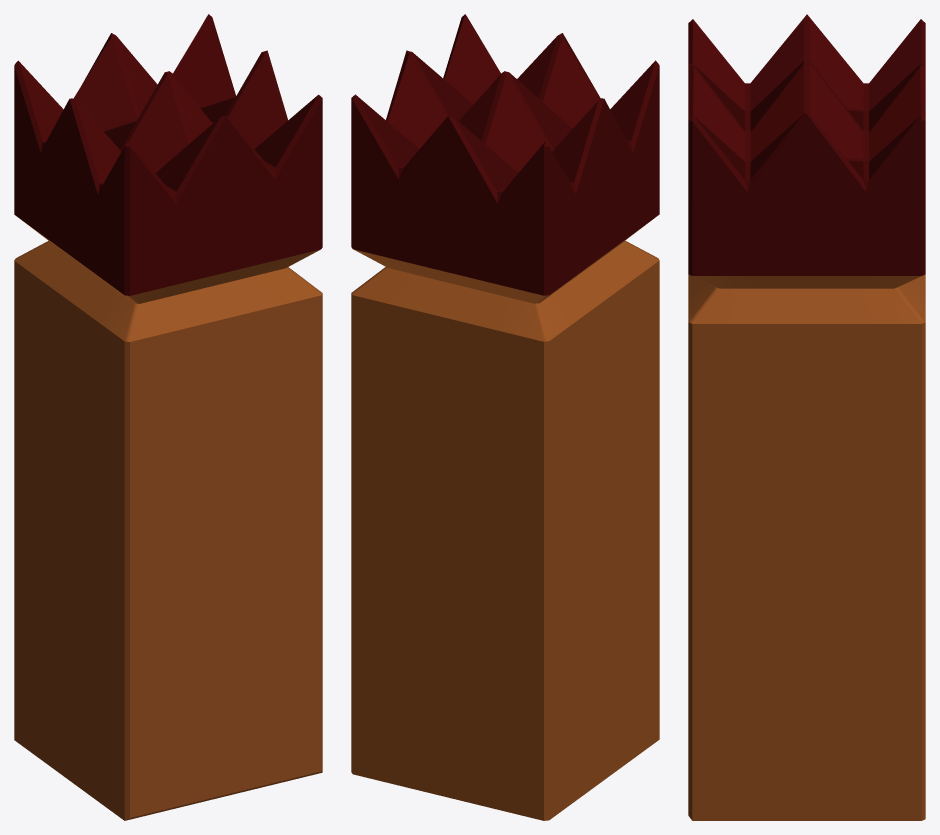
Rendered from kubbkung_v1.obj.
3 views of the same model, side by side, from view 1: azimuth 30°, elevation 25°; view 2: azimuth 150°, elevation 25°; view 3: azimuth 270°, elevation 25° (orthographic). The views are drawn at different scales.
Visible parts, largest first — view 1: pCube2; view 2: pCube2; view 3: pCube2.
Boxes of the visible parts, x1=… form: pCube2: x1=14, y1=14, x2=322, y2=820; pCube2: x1=351, y1=14, x2=659, y2=820; pCube2: x1=688, y1=14, x2=925, y2=820.
Size of the model in its own units: 9 by 29.67 by 9.
